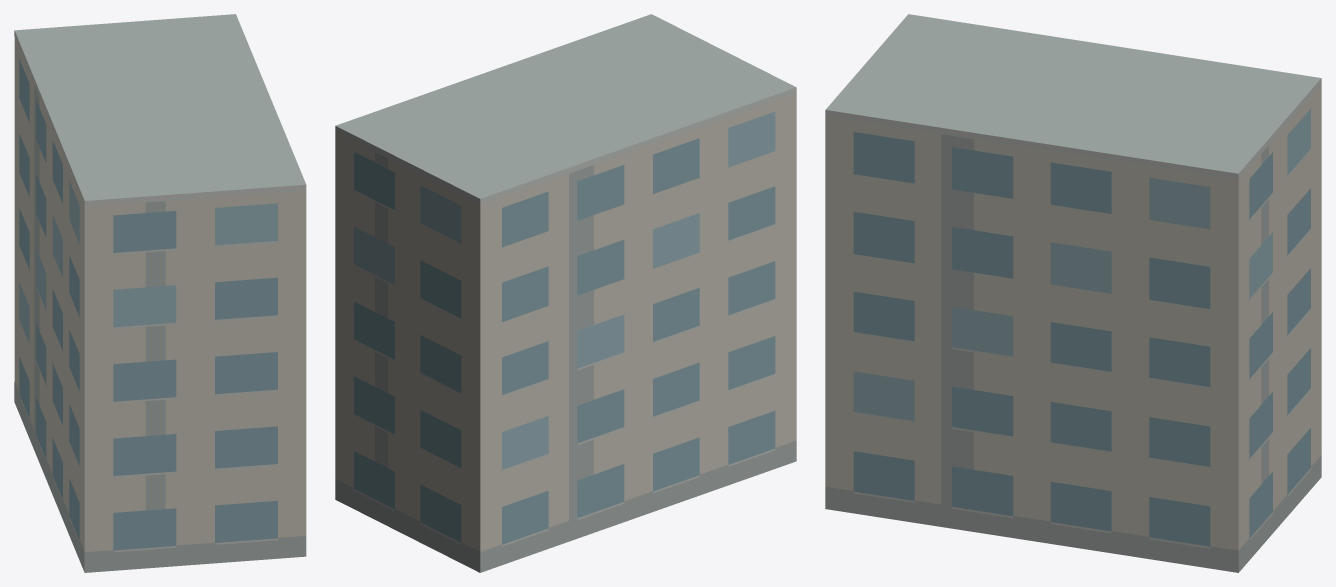
The model's file is residential-0a7621e6-61a8-402a-8a26-1347ef5604ca.glb.
3 views of the same model, side by side, from view 1: azimuth 30°, elevation 25°; view 2: azimuth 150°, elevation 25°; view 3: azimuth 270°, elevation 25° (orthographic). The views are drawn at different scales.
Parts seen in each view (by area): view 1: residential-0a7621e6-61a8-402a-8a26-1347ef5604ca.tmp; view 2: residential-0a7621e6-61a8-402a-8a26-1347ef5604ca.tmp; view 3: residential-0a7621e6-61a8-402a-8a26-1347ef5604ca.tmp.
Part boxes in pixels (x1=…): residential-0a7621e6-61a8-402a-8a26-1347ef5604ca.tmp: x1=14, y1=14, x2=306, y2=572; residential-0a7621e6-61a8-402a-8a26-1347ef5604ca.tmp: x1=335, y1=14, x2=796, y2=572; residential-0a7621e6-61a8-402a-8a26-1347ef5604ca.tmp: x1=825, y1=14, x2=1321, y2=572.
Bounding box in the file's own units: 13.1 × 15.25 × 17.19.
